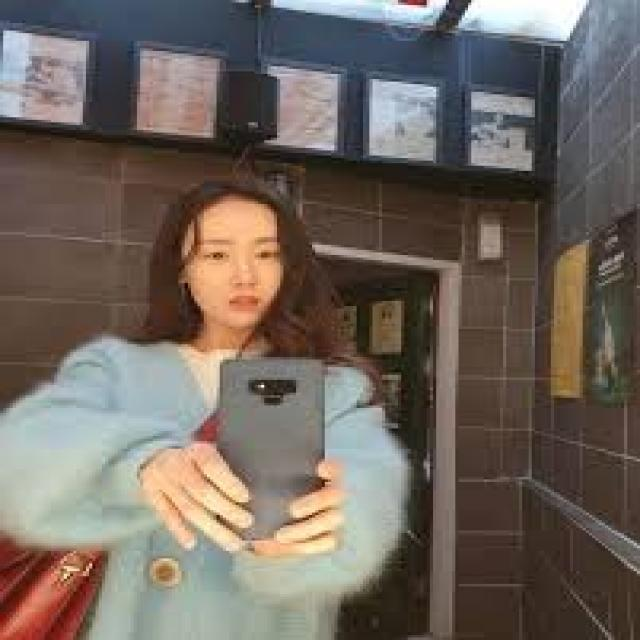Phone: (215, 355, 329, 545)
